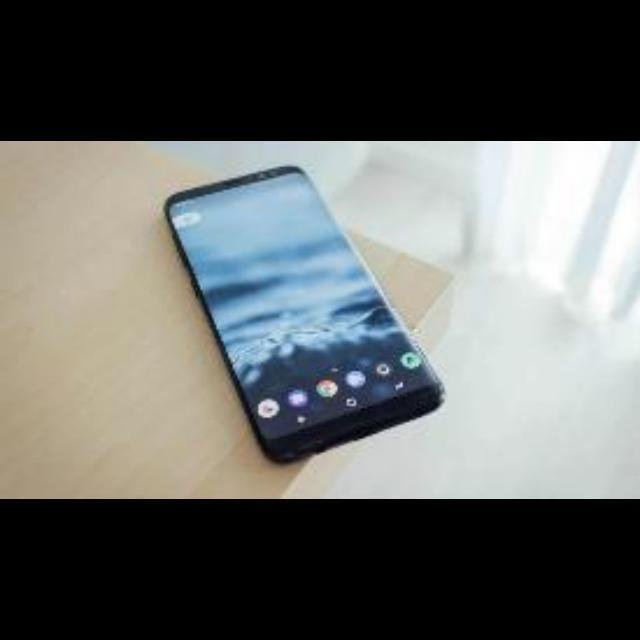phone: (143, 154, 470, 482)
